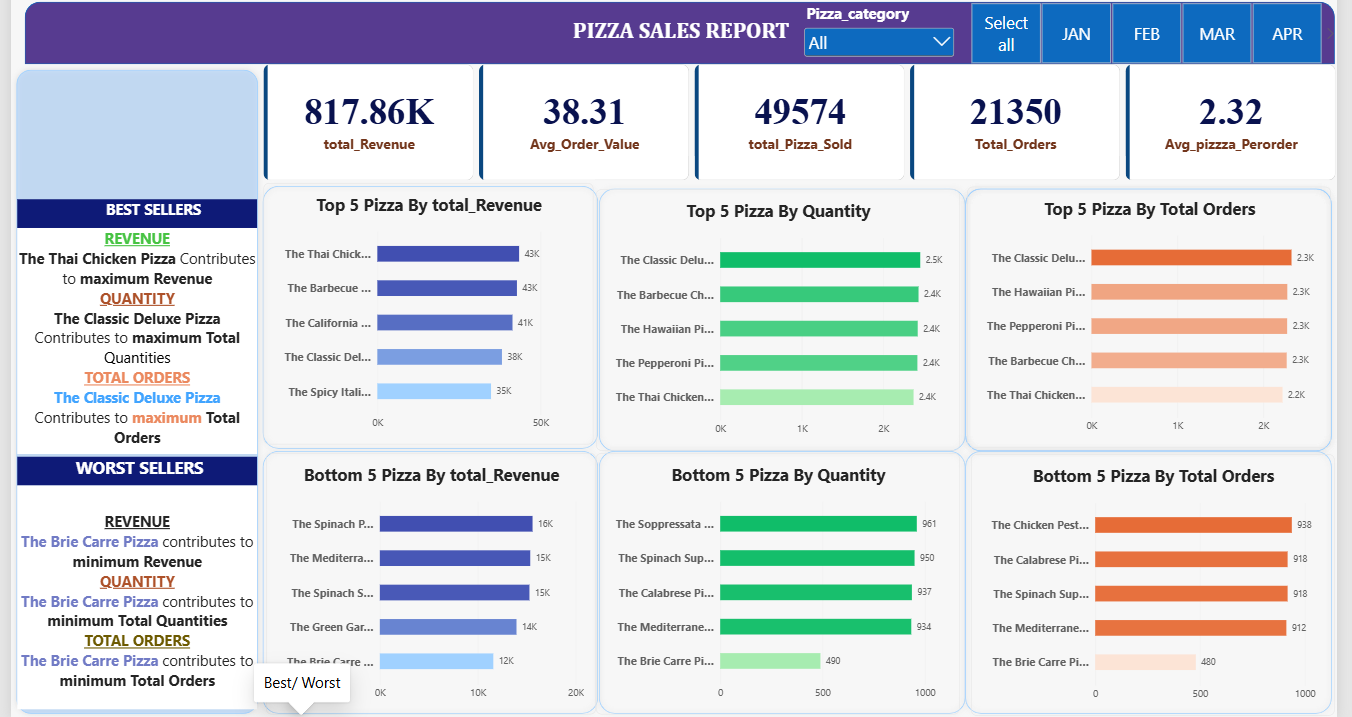

This screenshot's page, from the dashboard's own definition file:
{"tool":"powerbi","page":{"name":"Best/ Worst","canvas":[1920,1080],"ordinal":1},"visuals":[{"type":"cardVisual","fields":{"Data":["Pizza_sales.total_Revenue","Pizza_sales.Avg_Order_Value","Pizza_sales.total_Pizza_Sold","Pizza_sales.Total_Orders","Pizza_sales.Avg_pizzza_Perorder"]},"box":[365.6,132.1,1554.5,168.3],"z":0},{"type":"shape","box":[19.9,41.6,1896.5,90.5],"z":1000},{"type":"textbox","box":[738.3,63.3,428.9,68.8],"z":2000},{"type":"shape","box":[356.5,300.4,501.3,396.3],"z":3000},{"type":"shape","box":[0,132.1,365.6,948.3],"z":4000},{"type":"textbox","box":[9,327.5,347.5,41.6],"z":5000},{"type":"textbox","box":[9,700.3,347.5,41.6],"z":6000},{"type":"textbox","box":[9,369.2,347.5,327.5],"z":7000},{"type":"textbox","box":[9,742,347.5,323.9],"z":8000},{"type":"slicer","fields":{"Values":["Pizza_sales.pizza_category"]},"box":[1143.7,43.4,226.2,108.6],"z":9000},{"type":"slicer","fields":{"Values":["Pizza_sales.order Month"]},"box":[1369.9,41.6,546.5,90.5],"z":10000},{"type":"shape","box":[843.3,304,546.5,396.3],"z":11000},{"type":"shape","box":[1373.5,304,546.5,396.3],"z":12000},{"type":"shape","box":[356.5,684.1,501.3,396.3],"z":13000},{"type":"shape","box":[843.3,684.1,546.5,396.3],"z":14000},{"type":"shape","box":[1373.5,684.1,546.5,396.3],"z":15000},{"type":"barChart","title":"Top 5 Pizza By total_Revenue","fields":{"Category":["Pizza_sales.pizza_name"],"Y":["Pizza_sales.total_Revenue"]},"box":[366.4,304.6,477.5,378.7],"z":16000},{"type":"shape","box":[1373.5,304,546.5,396.3],"z":17000},{"type":"barChart","title":"Bottom 5 Pizza By total_Revenue","fields":{"Category":["Pizza_sales.pizza_name"],"Y":["Pizza_sales.total_Revenue"]},"box":[369.2,694.9,477.5,378.7],"z":18000},{"type":"barChart","title":"Top 5 Pizza By Quantity","fields":{"Category":["Pizza_sales.pizza_name"],"Y":["Pizza_sales.total_Pizza_Sold"]},"box":[846.9,313.1,526.6,378.2],"z":19000},{"type":"barChart","title":"Top 5 Pizza By Total Orders","fields":{"Category":["Pizza_sales.pizza_name"],"Y":["Pizza_sales.Total_Orders"]},"box":[1384.4,309.5,526.6,378.2],"z":19002},{"type":"barChart","title":"Bottom 5 Pizza By Total Orders","fields":{"Category":["Pizza_sales.pizza_name"],"Y":["Pizza_sales.Total_Orders"]},"box":[1389.8,696.7,526.6,378.2],"z":19003},{"type":"barChart","title":"Bottom 5 Pizza By Quantity","fields":{"Category":["Pizza_sales.pizza_name"],"Y":["Pizza_sales.total_Pizza_Sold"]},"box":[846.9,694.9,526.6,378.2],"z":19004}]}

Visuals, with their boxes on the page's 1920x1080 design canvas (x1, y1, x2, y2). These are canvas units, not pixel positions in the 1352x717 screenshot, which may show the page scaled, cropped or inside an application window:
cardVisual - Pizza_sales.total_Revenue x Pizza_sales.Avg_Order_Value: {"x1": 366, "y1": 132, "x2": 1920, "y2": 300}
shape: {"x1": 20, "y1": 42, "x2": 1916, "y2": 132}
textbox: {"x1": 738, "y1": 63, "x2": 1167, "y2": 132}
shape: {"x1": 356, "y1": 300, "x2": 858, "y2": 697}
shape: {"x1": 0, "y1": 132, "x2": 366, "y2": 1080}
textbox: {"x1": 9, "y1": 328, "x2": 356, "y2": 369}
textbox: {"x1": 9, "y1": 700, "x2": 356, "y2": 742}
textbox: {"x1": 9, "y1": 369, "x2": 356, "y2": 697}
textbox: {"x1": 9, "y1": 742, "x2": 356, "y2": 1066}
slicer - Pizza_sales.pizza_category: {"x1": 1144, "y1": 43, "x2": 1370, "y2": 152}
slicer - Pizza_sales.order Month: {"x1": 1370, "y1": 42, "x2": 1916, "y2": 132}
shape: {"x1": 843, "y1": 304, "x2": 1390, "y2": 700}
shape: {"x1": 1374, "y1": 304, "x2": 1920, "y2": 700}
shape: {"x1": 356, "y1": 684, "x2": 858, "y2": 1080}
shape: {"x1": 843, "y1": 684, "x2": 1390, "y2": 1080}
shape: {"x1": 1374, "y1": 684, "x2": 1920, "y2": 1080}
"Top 5 Pizza By total_Revenue" barChart: {"x1": 366, "y1": 305, "x2": 844, "y2": 683}
shape: {"x1": 1374, "y1": 304, "x2": 1920, "y2": 700}
"Bottom 5 Pizza By total_Revenue" barChart: {"x1": 369, "y1": 695, "x2": 847, "y2": 1074}
"Top 5 Pizza By Quantity" barChart: {"x1": 847, "y1": 313, "x2": 1374, "y2": 691}
"Top 5 Pizza By Total Orders" barChart: {"x1": 1384, "y1": 310, "x2": 1911, "y2": 688}
"Bottom 5 Pizza By Total Orders" barChart: {"x1": 1390, "y1": 697, "x2": 1916, "y2": 1075}
"Bottom 5 Pizza By Quantity" barChart: {"x1": 847, "y1": 695, "x2": 1374, "y2": 1073}
